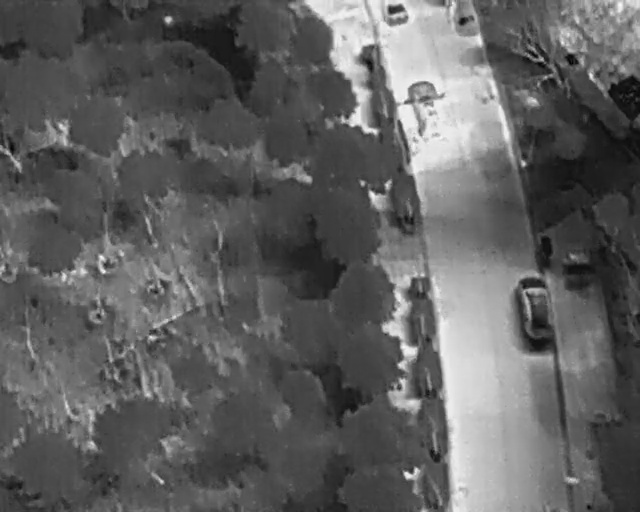Car: (513, 271, 558, 350), (404, 75, 453, 146), (448, 2, 479, 35), (381, 1, 411, 26)
